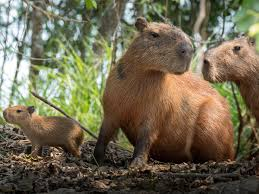capivara: (95, 17, 234, 170), (202, 33, 259, 141), (3, 105, 84, 156)
